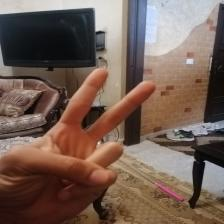two: (9, 69, 159, 198)
